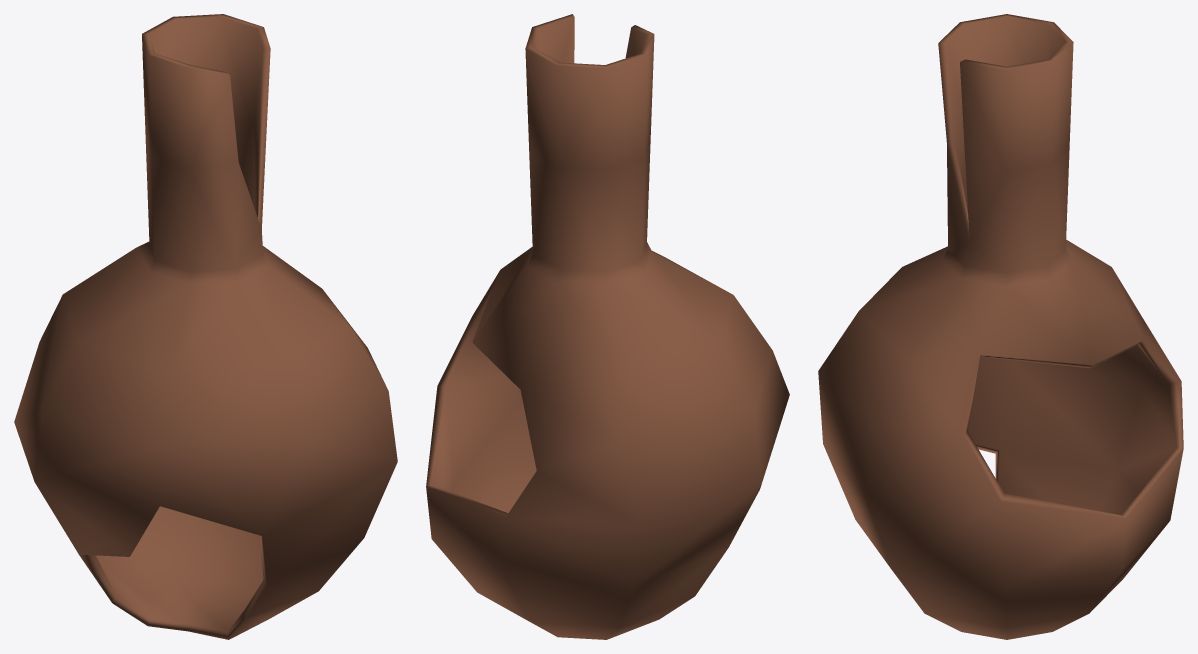
The model's file is Vaso_4_quebrado.fbx.
3 views of the same model, side by side, from view 1: azimuth 30°, elevation 25°; view 2: azimuth 150°, elevation 25°; view 3: azimuth 270°, elevation 25° (orthographic).
Visible parts, largest first — view 1: Vaso_4_quebrado; view 2: Vaso_4_quebrado; view 3: Vaso_4_quebrado.
Boxes of the visible parts, x1,y1,x2,y2 form: Vaso_4_quebrado: [14, 14, 397, 639]; Vaso_4_quebrado: [426, 14, 789, 639]; Vaso_4_quebrado: [818, 14, 1183, 639].
Size of the model in its own units: 0.2803 by 0.2894 by 0.4831.
